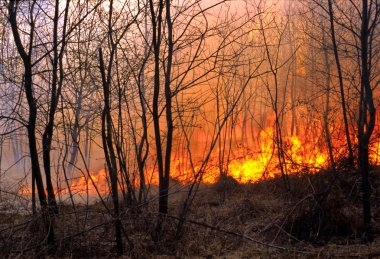fire: (223, 131, 316, 181), (164, 145, 221, 187), (70, 169, 110, 195)
